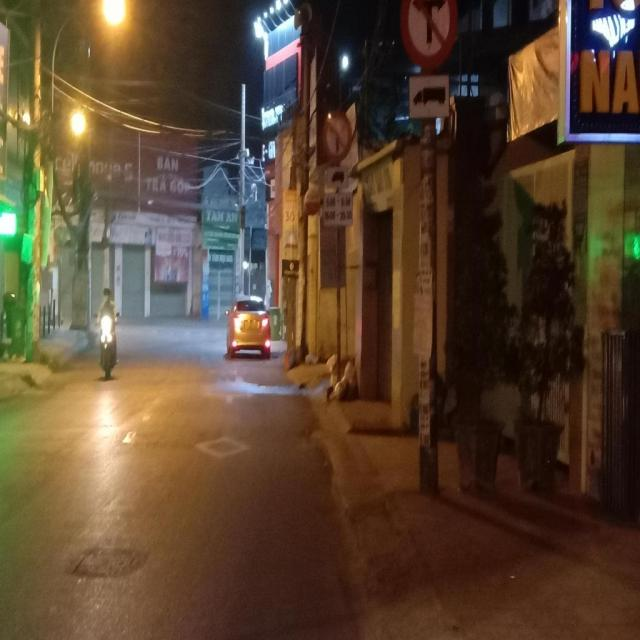cam_re_trai_va_phai: (400, 2, 458, 71), (322, 108, 352, 164)
khac: (408, 77, 450, 120), (323, 193, 353, 227), (326, 166, 350, 190)
